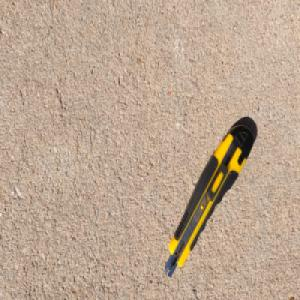Cutter: (163, 122, 255, 279)
